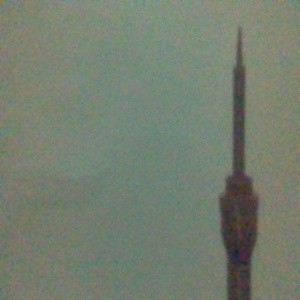solder: (218, 26, 260, 300)
